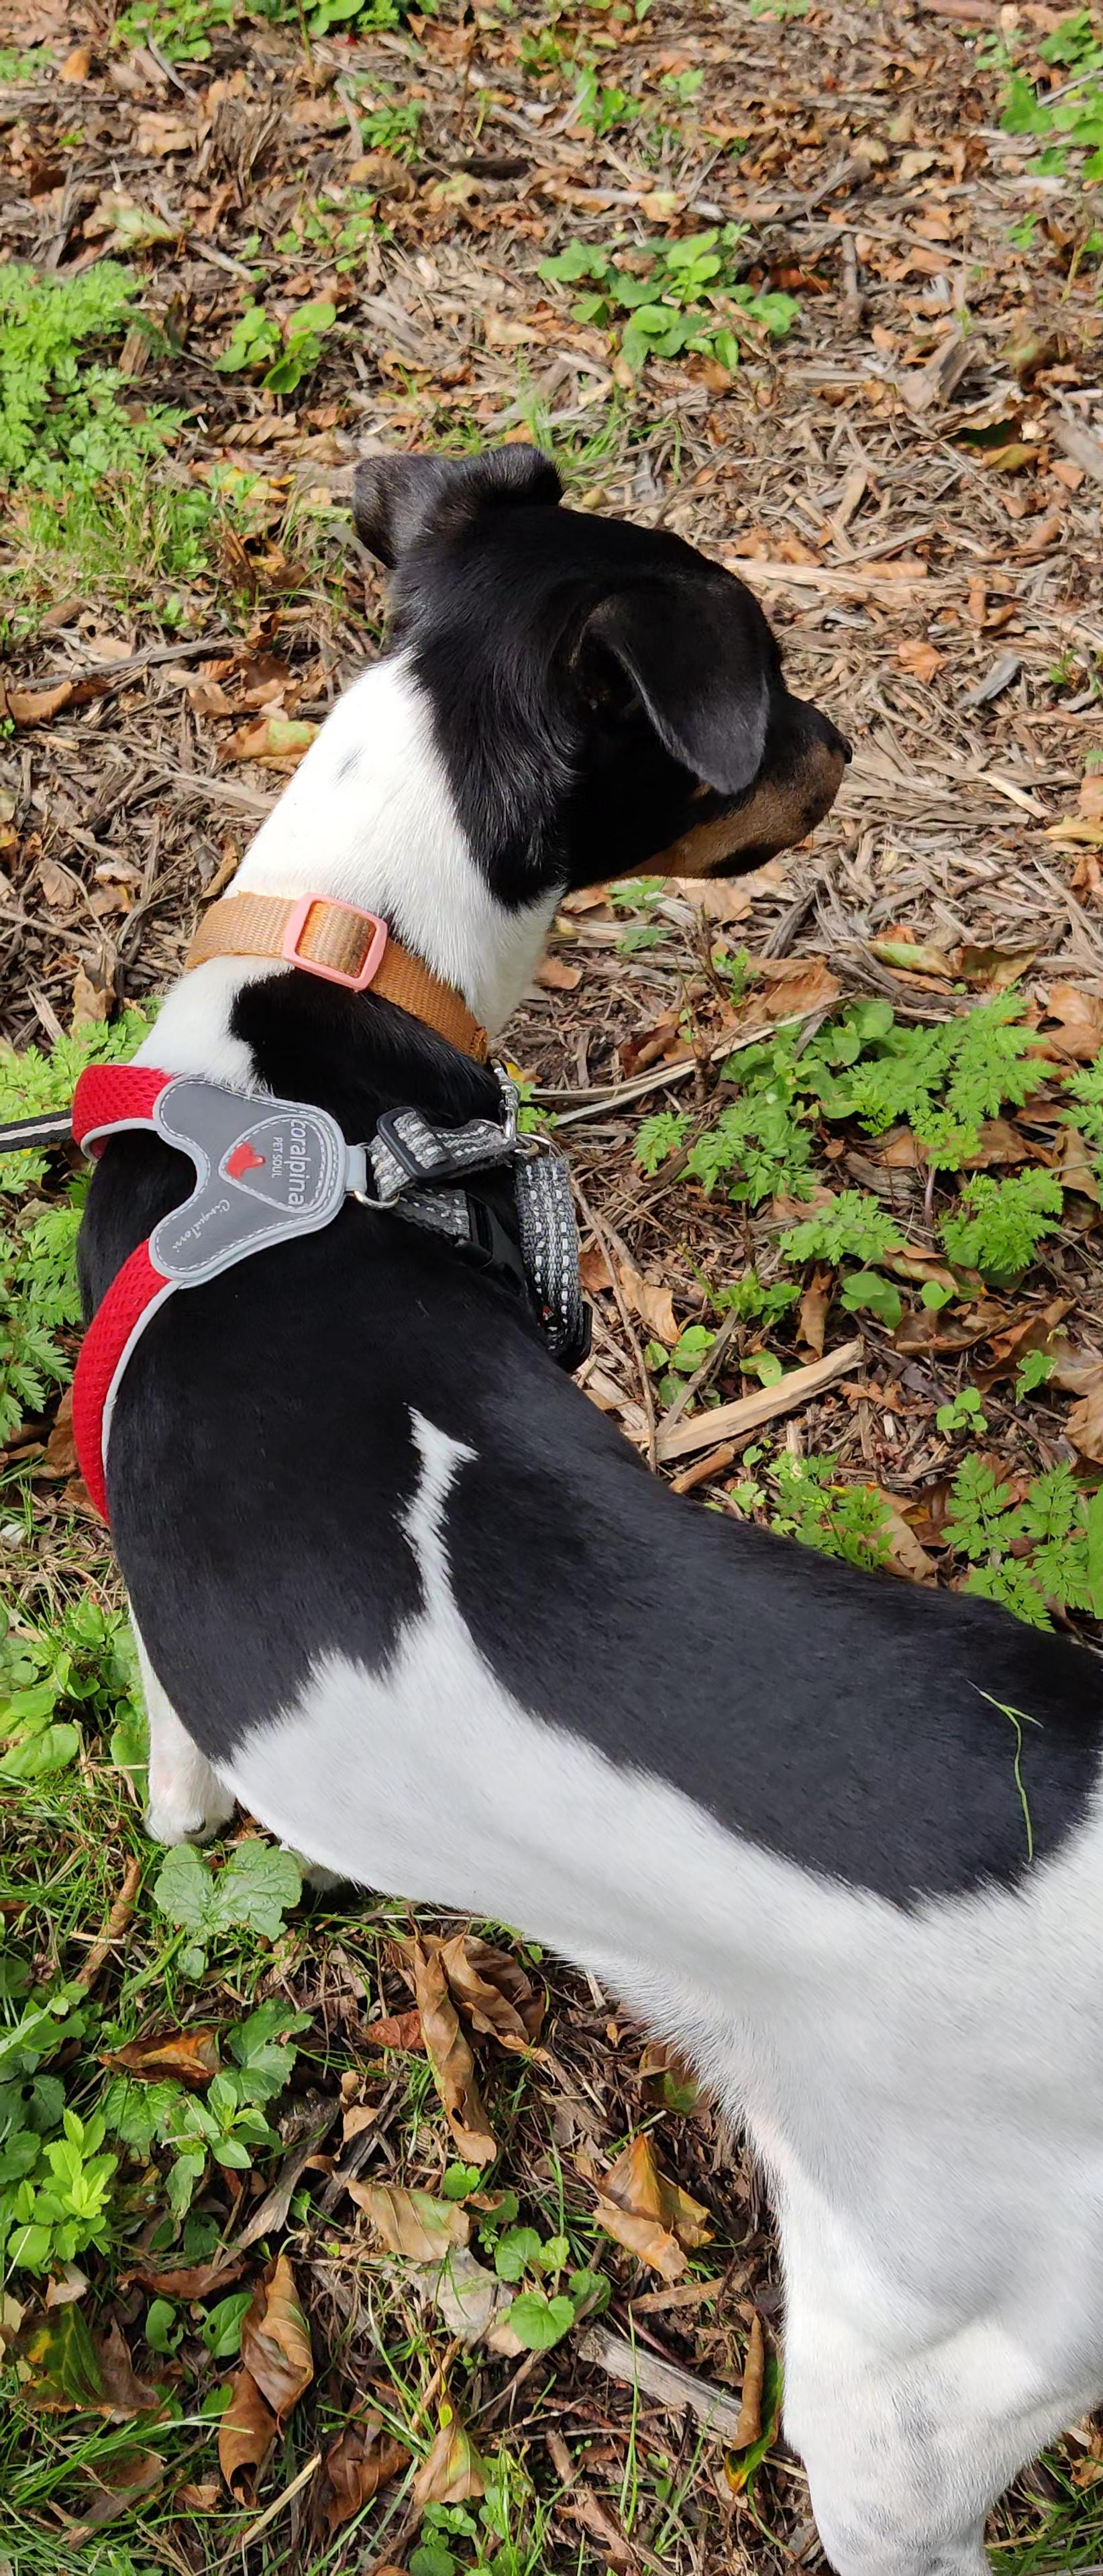Dog: (66, 429, 1103, 2576)
